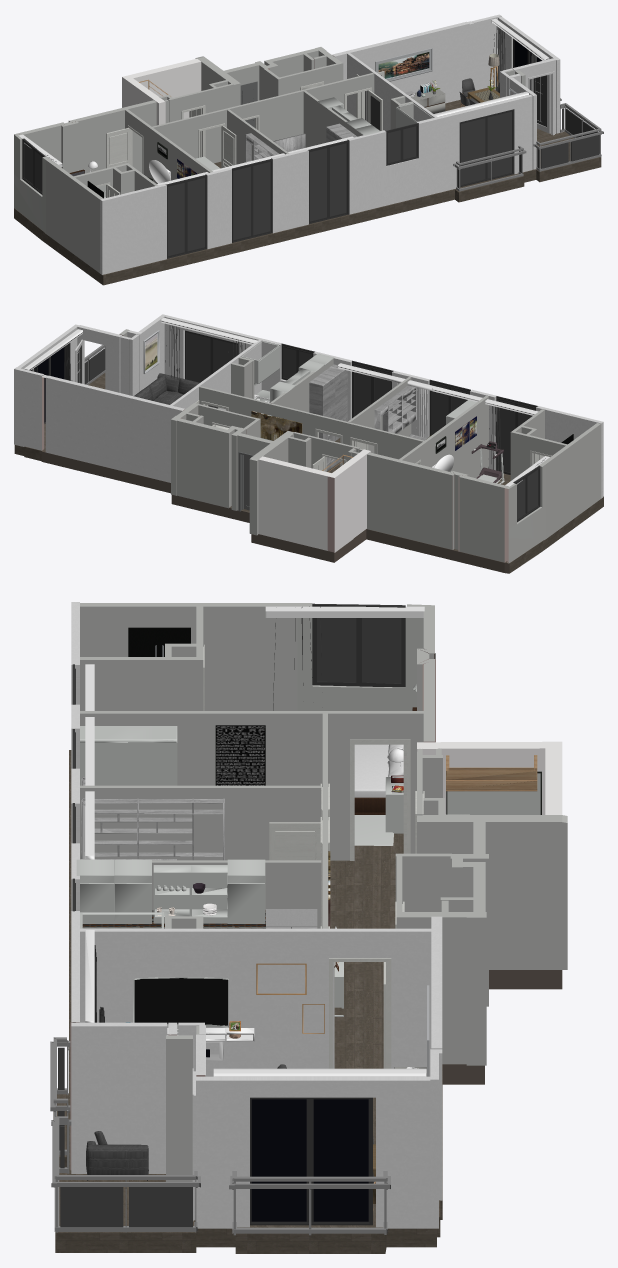
3 views of the same model, one above another, from view 1: azimuth 30°, elevation 25°; view 2: azimuth 150°, elevation 25°; view 3: azimuth 270°, elevation 25° (orthographic). The views are drawn at different scales.
Parts seen in each view (by area): view 1: _8_____011, StaticMesh, StaticMesh (1), _03____011, P_GenModB_45x42op9, AIUE_V01_004_desk, AIUE_V01_001_Image, P_PoliformFree_MFR2, P_AV_Curtain.001, P_CHT_VanityMirrorRound800; view 2: _8_____011, StaticMesh, StaticMesh (1), AIUE_V01_004_desk, P_GenModB_45x42op9, _852854692, _03____011, AIUE_V01_004_abstract_painting_001, AIUE_V01_004_paint_005, P_AV_Curtain.005, AIUE_V01_003_pictures_002_02; view 3: _8_____011, StaticMesh, StaticMesh (1), P_GenModB_45x42op9, _03____011, LOD0, AIUE_V01_004_desk, AIUE_V01_004_carpet_poster_001, P_CHT_KiB60_DW.004, P_CHT_KiB60_DW.005, AIUE_V01_002_bedroom_cupboard_02, LOD0 (4) (+4 smaller).
Part boxes in pixels (box(x1,y1,x2,y2)): _8_____011: box(14, 22, 603, 273); StaticMesh: box(100, 14, 560, 274); StaticMesh (1): box(14, 100, 601, 285); _03____011: box(96, 71, 384, 197); P_GenModB_45x42op9: box(18, 18, 549, 185); AIUE_V01_004_desk: box(245, 123, 357, 162); AIUE_V01_001_Image: box(378, 52, 429, 78); P_PoliformFree_MFR2: box(412, 87, 445, 113); P_AV_Curtain.001: box(493, 26, 505, 89); P_CHT_VanityMirrorRound800: box(149, 160, 170, 183); _8_____011: box(34, 329, 601, 563); StaticMesh: box(14, 314, 603, 498); StaticMesh (1): box(14, 373, 603, 573); AIUE_V01_004_desk: box(309, 364, 427, 471); P_GenModB_45x42op9: box(24, 317, 549, 486); _852854692: box(134, 373, 199, 404); _03____011: box(195, 400, 551, 471); AIUE_V01_004_abstract_painting_001: box(251, 411, 302, 440); AIUE_V01_004_paint_005: box(455, 416, 476, 450); P_AV_Curtain.005: box(488, 406, 500, 470); AIUE_V01_003_pictures_002_02: box(145, 334, 157, 370); _8_____011: box(50, 603, 567, 1235); StaticMesh: box(71, 602, 442, 1228); StaticMesh (1): box(53, 750, 562, 1253); P_GenModB_45x42op9: box(85, 606, 426, 1076); _03____011: box(203, 644, 469, 1068); LOD0: box(134, 978, 227, 1025); AIUE_V01_004_desk: box(80, 798, 224, 860); AIUE_V01_004_carpet_poster_001: box(215, 725, 265, 785); P_CHT_KiB60_DW.004: box(227, 859, 265, 923); P_CHT_KiB60_DW.005: box(114, 859, 151, 923); AIUE_V01_002_bedroom_cupboard_02: box(446, 755, 537, 791); LOD0 (4): box(354, 707, 416, 814).
Size of the model in its own units: 18.32 by 2.96 by 8.23.
81 materials, 78 textured.
